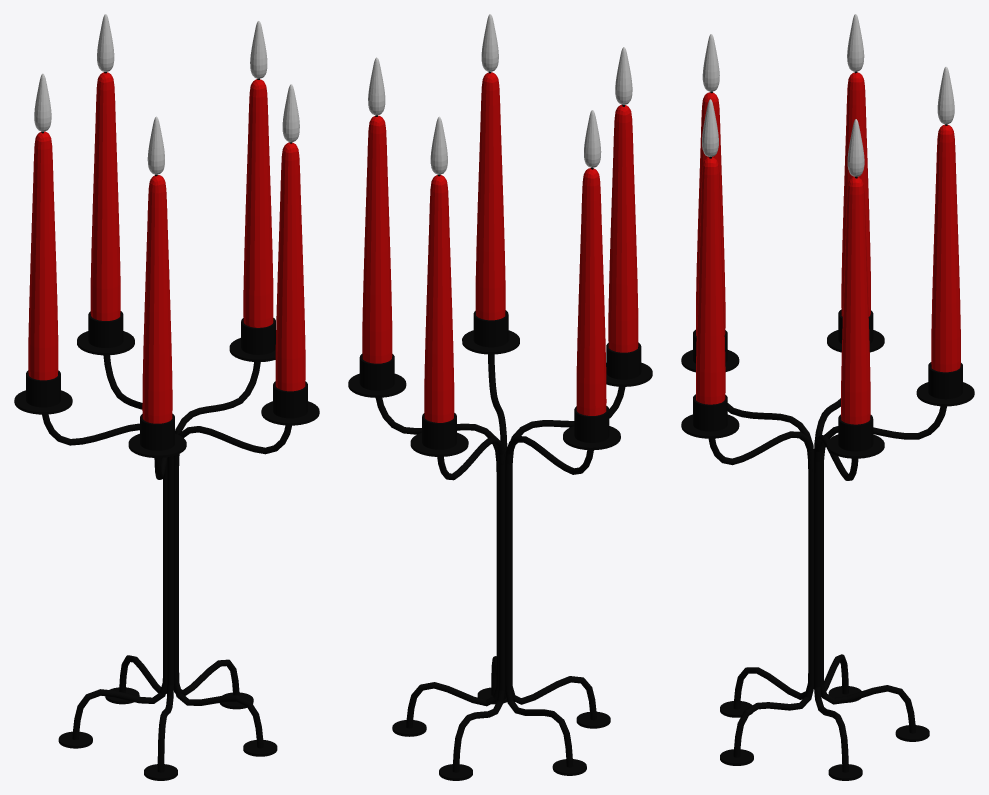
Rendered from candle.obj.
3 renders of one model, left to right at view 1: azimuth 30°, elevation 25°; view 2: azimuth 150°, elevation 25°; view 3: azimuth 270°, elevation 25°, orthographic.
Parts seen in each view (by area): view 1: Holder_Cylinder.007, Candle3_Cube.004, Candle1_Cube.002, Candle4_Cube.005, Candle0_Cube.001, Candle2_Cube.003, Flame0_Cube.010, Flame4_Cube.017, Flame3_Cube.016, Flame1_Cube.006, Flame2_Cube.011; view 2: Holder_Cylinder.007, Candle3_Cube.004, Candle2_Cube.003, Candle1_Cube.002, Candle4_Cube.005, Candle0_Cube.001, Flame1_Cube.006, Flame4_Cube.017, Flame3_Cube.016, Flame2_Cube.011, Flame0_Cube.010; view 3: Holder_Cylinder.007, Candle2_Cube.003, Candle0_Cube.001, Candle3_Cube.004, Candle1_Cube.002, Candle4_Cube.005, Flame4_Cube.017, Flame1_Cube.006, Flame2_Cube.011, Flame0_Cube.010, Flame3_Cube.016.
Part boxes in pixels (x1=…): Holder_Cylinder.007: x1=14, y1=311, x2=319, y2=780; Candle3_Cube.004: x1=275, y1=142, x2=305, y2=391; Candle1_Cube.002: x1=28, y1=131, x2=58, y2=380; Candle4_Cube.005: x1=142, y1=175, x2=172, y2=423; Candle0_Cube.001: x1=90, y1=72, x2=120, y2=320; Candle2_Cube.003: x1=243, y1=79, x2=273, y2=327; Flame0_Cube.010: x1=34, y1=73, x2=51, y2=131; Flame4_Cube.017: x1=250, y1=21, x2=267, y2=78; Flame3_Cube.016: x1=282, y1=84, x2=299, y2=142; Flame1_Cube.006: x1=97, y1=14, x2=114, y2=71; Flame2_Cube.011: x1=147, y1=116, x2=164, y2=174; Holder_Cylinder.007: x1=348, y1=310, x2=652, y2=780; Candle3_Cube.004: x1=475, y1=72, x2=505, y2=320; Candle2_Cube.003: x1=362, y1=115, x2=392, y2=363; Candle1_Cube.002: x1=576, y1=168, x2=606, y2=415; Candle4_Cube.005: x1=608, y1=105, x2=638, y2=352; Candle0_Cube.001: x1=424, y1=174, x2=454, y2=422; Flame1_Cube.006: x1=430, y1=116, x2=447, y2=174; Flame4_Cube.017: x1=368, y1=57, x2=385, y2=115; Flame3_Cube.016: x1=481, y1=14, x2=498, y2=71; Flame2_Cube.011: x1=615, y1=47, x2=632, y2=104; Flame0_Cube.010: x1=584, y1=110, x2=601, y2=167; Holder_Cylinder.007: x1=681, y1=309, x2=974, y2=780; Candle2_Cube.003: x1=841, y1=177, x2=870, y2=424; Candle0_Cube.001: x1=931, y1=124, x2=960, y2=372; Candle3_Cube.004: x1=696, y1=157, x2=725, y2=404; Candle1_Cube.002: x1=841, y1=72, x2=870, y2=316; Candle4_Cube.005: x1=696, y1=92, x2=725, y2=335; Flame4_Cube.017: x1=847, y1=119, x2=864, y2=176; Flame1_Cube.006: x1=937, y1=66, x2=954, y2=124; Flame2_Cube.011: x1=702, y1=34, x2=719, y2=91; Flame0_Cube.010: x1=847, y1=14, x2=864, y2=71; Flame3_Cube.016: x1=702, y1=99, x2=718, y2=156.
Bounding box in the file's own units: 0.2297 × 0.5548 × 0.2207.
